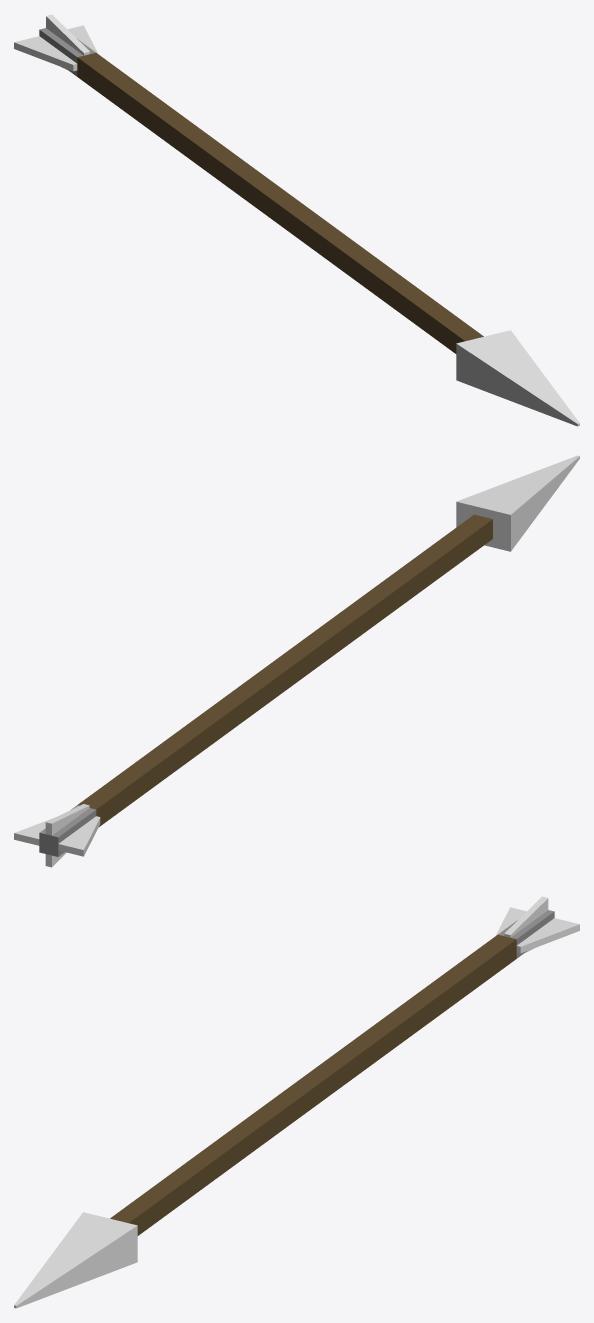
Rendered from Airrow.fbx.
3 views of the same model, one above another, from view 1: azimuth 30°, elevation 25°; view 2: azimuth 150°, elevation 25°; view 3: azimuth 330°, elevation 25° (orthographic).
Visible parts, largest first — view 1: Airrow; view 2: Airrow; view 3: Airrow.
Boxes of the visible parts, box(x1,y1,x2,y2) form: Airrow: box(14, 14, 579, 426); Airrow: box(14, 455, 579, 867); Airrow: box(14, 896, 579, 1308).
Bounding box in the file's own units: 3.67 × 2.2 × 48.29.
